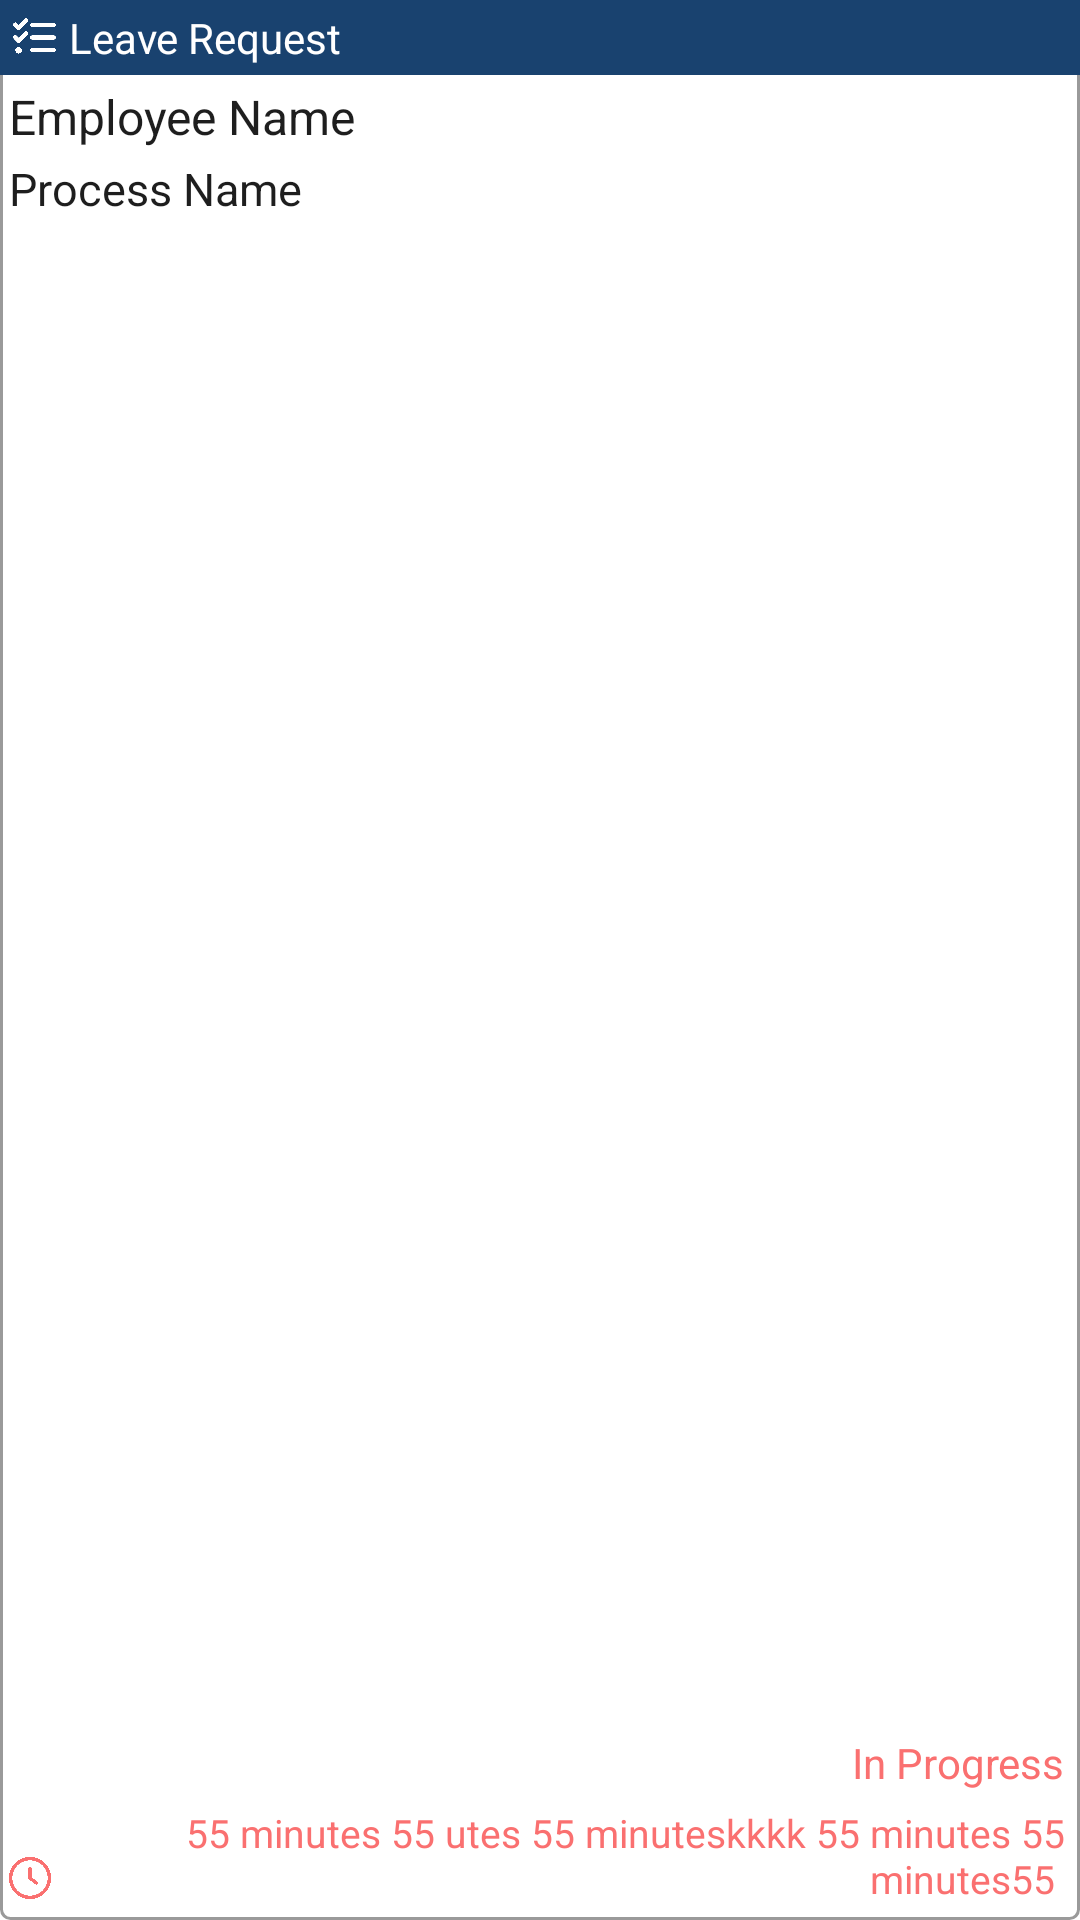

Named icons in this screenshot (1080w x 1920h) and their bounding boxes, (x1, y1, x2, y2):
check: (13, 18, 56, 54)
clock: (9, 1857, 51, 1899)
